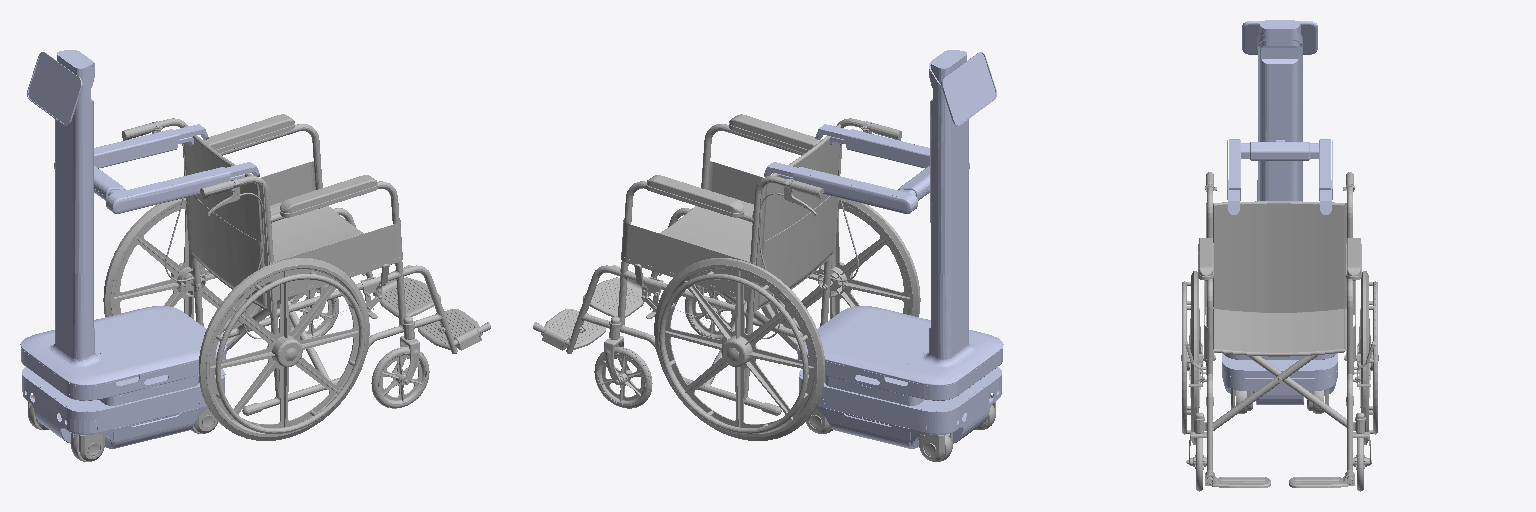
robot.urdf — G7_arm_wheelchair:
<?xml version="1.0" encoding="utf-8"?>
<!-- This URDF was automatically created by SolidWorks to URDF Exporter! Originally created by Stephen Brawner (brawner@gmail.com) 
     Commit Version: 1.6.0-4-g7f85cfe  Build Version: 1.6.7995.38578
     For more information, please see http://wiki.ros.org/sw_urdf_exporter -->
<robot
  name="G7_arm_wheelchair">
  <mujoco>
  <compiler
    meshdir="../meshes"
    balanceinertia="true"
    discardvisual="false" />
  </mujoco>
  <link
    name="AMR_base_link">
    <inertial>
      <origin
        xyz="0.01809495 0.00346995 -0.00482292"
        rpy="0 0 0" />
      <mass
        value="40.00000000" />
      <inertia
        ixx="0.62303071"
        ixy="0.00015279"
        ixz="0.01722407"
        iyy="0.92096563"
        iyz="-0.01209508"
        izz="1.23411295" />
    </inertial>
    <visual>
      <origin
        xyz="0 0 0"
        rpy="0 0 0" />
      <geometry>
        <mesh
          filename="package://G7_arm_wheelchair/meshes/AMR_base_link.STL" />
      </geometry>
      <material
        name="">
        <color
          rgba="0.792156862745098 0.819607843137255 0.933333333333333 1" />
      </material>
    </visual>
    <collision>
      <origin
        xyz="0 0 0"
        rpy="0 0 0" />
      <geometry>
        <mesh
          filename="package://G7_arm_wheelchair/meshes/AMR_collision.stl" />
      </geometry>
    </collision>
  </link>
  <link
    name="arm_link">
    <inertial>
      <origin
        xyz="0.03614545 -0.00000317 0.05135422"
        rpy="0 0 0" />
      <mass
        value="10.00000000" />
      <inertia
        ixx="0.87452839"
        ixy="-0.00000629"
        ixz="0.05468077"
        iyy="0.95354388"
        iyz="-0.00000413"
        izz="0.20297959" />
    </inertial>


    <visual>
      <origin
        xyz="0 0 0"
        rpy="0 0 0" />
      <geometry>
        <mesh
          filename="package://G7_arm_wheelchair/meshes/arm_link.STL" />
      </geometry>
      <material
        name="">
        <color
          rgba="0.792156862745098 0.819607843137255 0.933333333333333 1" />
      </material>
    </visual>
    <collision>
      <origin
        xyz="0.16 0 -0.545"
        rpy="0 0 0" />
      <geometry>
        <mesh
          filename="package://G7_arm_wheelchair/meshes/arm_collision.stl" />
      </geometry>
    </collision>
  </link>
  <joint
    name="AMR_arm_J"
    type="fixed">
    <origin
      xyz="-0.16139 0 0.54534"
      rpy="0 0 0" />
    <parent
      link="AMR_base_link" />
    <child
      link="arm_link" />
    <axis
      xyz="0 0 0" />
  </joint>
  <link
    name="wheelchair_base_link">
    <inertial>
      <origin
        xyz="-0.06158659 -0.00662311 0.07561156"
        rpy="0 0 0" />
      <mass
        value="60.00000000" />
      <inertia
        ixx="3.82247384"
        ixy="0.03718492"
        ixz="-0.99542033"
        iyy="4.10517780"
        iyz="-0.12150664"
        izz="3.68493511" />
    </inertial>


    <visual>
      <origin
        xyz="0 0 0"
        rpy="0 0 0" />
      <geometry>
        <mesh
          filename="package://G7_arm_wheelchair/meshes/wheelchair_base_link.STL" />
      </geometry>
      <material
        name="">
        <color
          rgba="0.752941176470588 0.752941176470588 0.752941176470588 1" />
      </material>
    </visual>
    <collision>
      <origin
        xyz="-0.57 -0.04 -0.3136"
        rpy="0 0 0.07" />
      <geometry>
        <mesh
          filename="package://G7_arm_wheelchair/meshes/wheelchair_base_link_collision.STL" />
      </geometry>
    </collision>
  </link>
  <joint
    name="arm_wheelchair_J"
    type="fixed">
    <origin
      xyz="0.72627 0 -0.23586"
      rpy="0 0 -0.069813" />
    <parent
      link="arm_link" />
    <child
      link="wheelchair_base_link" />
    <axis
      xyz="0 0 0" />
  </joint>
  <link
    name="wheelchair_FL_link">
    <inertial>
      <origin
        xyz="-0.00669370 -0.00030195 -0.03528150"
        rpy="0 0 0" />
      <mass
        value="0.30000000" />
      <inertia
        ixx="0.00140980"
        ixy="0.00000287"
        ixz="0.00021633"
        iyy="0.00129176"
        iyz="0.00001101"
        izz="0.00026023" />
    </inertial>


    <visual>
      <origin
        xyz="0 0 0"
        rpy="0 0 0" />
      <geometry>
        <mesh
          filename="package://G7_arm_wheelchair/meshes/wheelchair_FL_link.STL" />
      </geometry>
      <material
        name="">
        <color
          rgba="0.752941176470588 0.752941176470588 0.752941176470588 1" />
      </material>
    </visual>
    
  </link>
  <joint
    name="wheelchair_FL_J"
    type="revolute">
    <origin
      xyz="0.25067 0.28905 -0.25051"
      rpy="0 0 0.069813" />
    <parent
      link="wheelchair_base_link" />
    <child
      link="wheelchair_FL_link" />
    <axis
      xyz="0.069756 0 -0.99756" />
  </joint>
  <link
    name="wheelchair_FLW_link">
    <inertial>
      <origin
        xyz="0 0 0"
        rpy="0 0 0" />
      <mass
        value="0.50000000" />
      <inertia
        ixx="0.00151566"
        ixy="0.00000000"
        ixz="-0.00000003"
        iyy="0.00297133"
        iyz="0.00000000"
        izz="0.00151563" />
    </inertial>

    <visual>
      <origin
        xyz="0 0 0"
        rpy="0 0 0" />
      <geometry>
        <mesh
          filename="package://G7_arm_wheelchair/meshes/wheelchair_FLW_link.STL" />
      </geometry>
      <material
        name="">
        <color
          rgba="0.752941176470588 0.752941176470588 0.752941176470588 1" />
      </material>
    </visual>
    <collision>
      <origin xyz="0 0 0" rpy="-1.5708 0 0"/>
      <geometry>
        <cylinder radius="0.099" length="0.025"/>
      </geometry>
    </collision> 
  </link>
  <joint
    name="wheelchair_FLW_J"
    type="revolute">
    <origin
      xyz="-0.031613 0 -0.12134"
      rpy="0 0 0" />
    <parent
      link="wheelchair_FL_link" />
    <child
      link="wheelchair_FLW_link" />
    <axis
      xyz="0 1 0" />
  </joint>
  <link
    name="wheelchair_FR_link">
    <inertial>
      <origin
        xyz="-0.00669369 -0.00030196 -0.03528157"
        rpy="0 0 0" />
      <mass
        value="0.30000000" />
      <inertia
        ixx="0.00140981"
        ixy="0.00000287"
        ixz="0.00021633"
        iyy="0.00129176"
        iyz="0.00001101"
        izz="0.00026023" />
    </inertial>
``


    <visual>
      <origin
        xyz="0 0 0"
        rpy="0 0 0" />
      <geometry>
        <mesh
          filename="package://G7_arm_wheelchair/meshes/wheelchair_FR_link.STL" />
      </geometry>
      <material
        name="">
        <color
          rgba="0.752941176470588 0.752941176470588 0.752941176470588 1" />
      </material>
    </visual>
    
  </link>
  <joint
    name="wheelchair_FR_J"
    type="revolute">
    <origin
      xyz="0.288458061311074 -0.251351794360144 -0.250510711215681"
      rpy="0 0 0.0698131700797799" />
    <parent
      link="wheelchair_base_link" />
    <child
      link="wheelchair_FR_link" />
    <axis
      xyz="0.0697564737441193 0 -0.997564050259792" />
  </joint>
  <link
    name="wheelchair_FRW_link">
    <inertial>
      <origin
        xyz="0 0 0"
        rpy="0 0 0" />
      <mass
        value="0.50000000" />
      <inertia
        ixx="0.00151566"
        ixy="0.00000000"
        ixz="-0.00000003"
        iyy="0.00297133"
        iyz="0.00000000"
        izz="0.00151563" />
    </inertial>


    <visual>
      <origin
        xyz="0 0 0"
        rpy="0 0 0" />
      <geometry>
        <mesh
          filename="package://G7_arm_wheelchair/meshes/wheelchair_FRW_link.STL" />
      </geometry>
      <material
        name="">
        <color
          rgba="0.752941176470588 0.752941176470588 0.752941176470588 1" />
      </material>
    </visual>
    <collision>
      <origin xyz="0 0 0" rpy="-1.5708 0 0"/>
      <geometry>
        <cylinder radius="0.099" length="0.025"/>
      </geometry>
    </collision> 
  </link>
  <joint
    name="wheelchair_FRW_J"
    type="revolute">
    <origin
      xyz="-0.0316127012317233 0 -0.121340692388977"
      rpy="0 0 0" />
    <parent
      link="wheelchair_FR_link" />
    <child
      link="wheelchair_FRW_link" />
    <axis
      xyz="0 0.999999999999955 0" />
  </joint>
  <link
    name="wheelchair_RLW_link">
    <inertial>
      <origin
        xyz="0.00001633 -0.00015277 0.00000889"
        rpy="0 0 0" />
      <mass
        value="1.00000000" />
      <inertia
        ixx="0.02845442"
        ixy="0.00000013"
        ixz="0.00000047"
        iyy="0.05638375"
        iyz="0.00000006"
        izz="0.02845217" />
    </inertial>


    <visual>
      <origin
        xyz="0 0 0"
        rpy="0 0 0" />
      <geometry>
        <mesh
          filename="package://G7_arm_wheelchair/meshes/wheelchair_RLW_link.STL" />
      </geometry>
      <material
        name="">
        <color
          rgba="0.752941176470588 0.752941176470588 0.752941176470588 1" />
      </material>
    </visual>
    <collision>
      <origin xyz="0 0 0" rpy="-1.5708 0 0"/>
      <geometry>
        <cylinder radius="0.294" length="0.059"/>
      </geometry>
    </collision> 
  </link>
  <joint
    name="wheelchair_RLW_J"
    type="revolute">
    <origin
      xyz="-0.193198001154472 0.279615553806092 -0.17647944707263"
      rpy="0 0 0.0698131700797799" />
    <parent
      link="wheelchair_base_link" />
    <child
      link="wheelchair_RLW_link" />
    <axis
      xyz="0 -1 0" />
  </joint>
  <link
    name="wheelchair_RRW_link">
    <inertial>
      <origin
        xyz="0.00001633 0.00015277 -0.00000889"
        rpy="0 0 0" />
      <mass
        value="1.00000000" />
      <inertia
        ixx="0.02845442"
        ixy="-0.00000013"
        ixz="-0.00000047"
        iyy="0.05638375"
        iyz="0.00000007"
        izz="0.02845217" />
    </inertial>


    <visual>
      <origin
        xyz="0 0 0"
        rpy="0 0 0" />
      <geometry>
        <mesh
          filename="package://G7_arm_wheelchair/meshes/wheelchair_RRW_link.STL" />
      </geometry>
      <material
        name="">
        <color
          rgba="0.752941176470588 0.752941176470588 0.752941176470588 1" />
      </material>
    </visual>
     <collision>
      <origin xyz="0 0 0" rpy="-1.5708 0 0"/>
      <geometry>
        <cylinder radius="0.294" length="0.059"/>
      </geometry>
    </collision>
  </link>
  <joint
    name="wheelchair_RRW_J"
    type="revolute">
    <origin
      xyz="-0.152402952832757 -0.303782326723057 -0.176479378999602"
      rpy="0 0 0.0698131700797799" />
    <parent
      link="wheelchair_base_link" />
    <child
      link="wheelchair_RRW_link" />
    <axis
      xyz="0 0.999999999999954 0" />
  </joint>
  <link
    name="AMR_FL_link">
    <inertial>
      <origin
        xyz="0.00000000 -0.00166139 -0.04674468"
        rpy="0 0 0" />
      <mass
        value="0.30000000" />
      <inertia
        ixx="0.00117646"
        ixy="0.00000000"
        ixz="0.00000000"
        iyy="0.00105740"
        iyz="0.00003180"
        izz="0.00051559" />
    </inertial>


    <visual>
      <origin
        xyz="0 0 0"
        rpy="0 0 0" />
      <geometry>
        <mesh
          filename="package://G7_arm_wheelchair/meshes/AMR_FL_link.STL" />
      </geometry>
      <material
        name="">
        <color
          rgba="0.752941176470588 0.752941176470588 0.752941176470588 1" />
      </material>
    </visual>

  </link>
  <joint
    name="AMR_FL_J"
    type="revolute">
    <origin
      xyz="0.198 0.129999999999956 -0.056600604850529"
      rpy="0 0 0" />
    <parent
      link="AMR_base_link" />
    <child
      link="AMR_FL_link" />
    <axis
      xyz="0 0 -1" />
  </joint>
  <link
    name="AMR_FLW_link">
    <inertial>
      <origin
        xyz="0 0 0"
        rpy="0 0 0" />
      <mass
        value="1.00000000" />
      <inertia
        ixx="0.00118731"
        ixy="0.00000000"
        ixz="0.00000002"
        iyy="0.00219403"
        iyz="0.00000000"
        izz="0.00118753" />
    </inertial>


    <visual>
      <origin
        xyz="0 0 0"
        rpy="0 0 0" />
      <geometry>
        <mesh
          filename="package://G7_arm_wheelchair/meshes/AMR_FLW_link.STL" />
      </geometry>
      <material
        name="">
        <color
          rgba="0.752941176470588 0.752941176470588 0.752941176470588 1" />
      </material>
    </visual>
    <collision>
      <origin xyz="0 0 0" rpy="-1.5708 0 0"/>
      <geometry>
        <cylinder radius="0.05203" length="0.036"/>
      </geometry>
    </collision>
  </link>
  <joint
    name="AMR_FLW_J"
    type="revolute">
    <origin
      xyz="0 0 -0.0525"
      rpy="0 0 0" />
    <parent
      link="AMR_FL_link" />
    <child
      link="AMR_FLW_link" />
    <axis
      xyz="0 1 0" />
  </joint>
  <link
    name="AMR_FR_link">
    <inertial>
      <origin
        xyz="0 0 0"
        rpy="0 0 0" />
      <mass
        value="0.30000000" />
      <inertia
        ixx="0.00117647"
        ixy="0.00000000"
        ixz="0.00000000"
        iyy="0.00105741"
        iyz="-0.00003179"
        izz="0.00051559" />
    </inertial>


    <visual>
      <origin
        xyz="0 0 0"
        rpy="0 0 0" />
      <geometry>
        <mesh
          filename="package://G7_arm_wheelchair/meshes/AMR_FR_link.STL" />
      </geometry>
      <material
        name="">
        <color
          rgba="0.752941176470588 0.752941176470588 0.752941176470588 1" />
      </material>
    </visual>

  </link>
  <joint
    name="AMR_FR_J"
    type="revolute">
    <origin
      xyz="0.197999999999997 -0.130000000000005 -0.056600604850529"
      rpy="0 0 0" />
    <parent
      link="AMR_base_link" />
    <child
      link="AMR_FR_link" />
    <axis
      xyz="0 0 -1" />
  </joint>
  <link
    name="AMR_FRW_link">
    <inertial>
      <origin
        xyz="0 0 0"
        rpy="0 0 0" />
      <mass
        value="1.00000000" />
      <inertia
        ixx="0.00118731"
        ixy="0.00000000"
        ixz="-0.00000002"
        iyy="0.00219403"
        iyz="0.00000000"
        izz="0.00118753" />
    </inertial>


    <visual>
      <origin
        xyz="0 0 0"
        rpy="0 0 0" />
      <geometry>
        <mesh
          filename="package://G7_arm_wheelchair/meshes/AMR_FRW_link.STL" />
      </geometry>
      <material
        name="">
        <color
          rgba="0.752941176470588 0.752941176470588 0.752941176470588 1" />
      </material>
    </visual>
    <collision>
      <origin xyz="0 0 0" rpy="-1.5708 0 0"/>
      <geometry>
        <cylinder radius="0.05203" length="0.036"/>
      </geometry>
    </collision>
  </link>
  <joint
    name="AMR_FRW_J"
    type="revolute">
    <origin
      xyz="0 0 -0.0525"
      rpy="0 0 0" />
    <parent
      link="AMR_FR_link" />
    <child
      link="AMR_FRW_link" />
    <axis
      xyz="0 1 0" />
  </joint>
  <link
    name="AMR_RL_link">
    <inertial>
      <origin
        xyz="0 0 0"
        rpy="0 0 0" />
      <mass
        value="0.30000000" />
      <inertia
        ixx="0.00117647"
        ixy="0.00000000"
        ixz="0.00000000"
        iyy="0.00105741"
        iyz="0.00003180"
        izz="0.00051559" />
    </inertial>


    <visual>
      <origin
        xyz="0 0 0"
        rpy="0 0 0" />
      <geometry>
        <mesh
          filename="package://G7_arm_wheelchair/meshes/AMR_RL_link.STL" />
      </geometry>
      <material
        name="">
        <color
          rgba="0.752941176470588 0.752941176470588 0.752941176470588 1" />
      </material>
    </visual>
 
  </link>
  <joint
    name="AMR_RL_J"
    type="revolute">
    <origin
      xyz="-0.198 0.13 -0.056601"
      rpy="0 0 0" />
    <parent
      link="AMR_base_link" />
    <child
      link="AMR_RL_link" />
    <axis
      xyz="0 0 -1" />
  </joint>
  <link
    name="AMR_RLW_link">
    <inertial>
      <origin
        xyz="0 0 0"
        rpy="0 0 0" />
      <mass
        value="1.00000000" />
      <inertia
        ixx="0.00118731"
        ixy="0.00000000"
        ixz="0.00000002"
        iyy="0.00219403"
        iyz="0.00000000"
        izz="0.00118753" />
    </inertial>


    <visual>
      <origin
        xyz="0 0 0"
        rpy="0 0 0" />
      <geometry>
        <mesh
          filename="package://G7_arm_wheelchair/meshes/AMR_RLW_link.STL" />
      </geometry>
      <material
        name="">
        <color
          rgba="0.752941176470588 0.752941176470588 0.752941176470588 1" />
      </material>
    </visual>
    <collision>
      <origin xyz="0 0 0" rpy="-1.5708 0 0"/>
      <geometry>
        <cylinder radius="0.05203" length="0.036"/>
      </geometry>
    </collision>
  </link>
  <joint
    name="AMR_RLW_J"
    type="revolute">
    <origin
      xyz="0 0 -0.0525"
      rpy="0 0 0" />
    <parent
      link="AMR_RL_link" />
    <child
      link="AMR_RLW_link" />
    <axis
      xyz="0 1 0" />
  </joint>
  <link
    name="AMR_RR_link">
    <inertial>
      <origin
        xyz="0 0 0"
        rpy="0 0 0" />
      <mass
        value="0.30000000" />
      <inertia
        ixx="0.00117647"
        ixy="0.00000000"
        ixz="0.00000000"
        iyy="0.00105740"
        iyz="-0.00003179"
        izz="0.00051559" />
    </inertial>


    <visual>
      <origin
        xyz="0 0 0"
        rpy="0 0 0" />
      <geometry>
        <mesh
          filename="package://G7_arm_wheelchair/meshes/AMR_RR_link.STL" />
      </geometry>
      <material
        name="">
        <color
          rgba="0.752941176470588 0.752941176470588 0.752941176470588 1" />
      </material>
    </visual>
  </link>
  <joint
    name="AMR_RR_J"
    type="revolute">
    <origin
      xyz="-0.198 -0.13 -0.056601"
      rpy="0 0 0" />
    <parent
      link="AMR_base_link" />
    <child
      link="AMR_RR_link" />
    <axis
      xyz="0 0 -1" />
  </joint>
  <link
    name="AMR_RRW_link">
    <inertial>
      <origin
        xyz="0.00001633 0.00015277 -0.00000889"
        rpy="0 0 0" />
      <mass
        value="1.00000000" />
      <inertia
        ixx="0.02845442"
        ixy="-0.00000013"
        ixz="-0.00000047"
        iyy="0.05638375"
        iyz="0.00000007"
        izz="0.02845217" />
    </inertial>


    <visual>
      <origin
        xyz="0 0 0"
        rpy="0 0 0" />
      <geometry>
        <mesh
          filename="package://G7_arm_wheelchair/meshes/AMR_RRW_link.STL" />
      </geometry>
      <material
        name="">
        <color
          rgba="0.752941176470588 0.752941176470588 0.752941176470588 1" />
      </material>
    </visual>
    <collision>
      <origin xyz="0 0 0" rpy="-1.5708 0 0"/>
      <geometry>
        <cylinder radius="0.05203" length="0.036"/>
      </geometry>
    </collision>
  </link>
  <joint
    name="AMR_RRW_J"
    type="revolute">
    <origin
      xyz="0 0 -0.0525"
      rpy="0 0 0" />
    <parent
      link="AMR_RR_link" />
    <child
      link="AMR_RRW_link" />
    <axis
      xyz="0 1 0" />
  </joint>
</robot>

--- Render facts (derived) ---
Views: 3 orthographic renders of the robot side by side, from view 1: azimuth 30°, elevation 25°; view 2: azimuth 150°, elevation 25°; view 3: azimuth 270°, elevation 25°.
Robot: G7_arm_wheelchair — 17 links, 16 joints (14 revolute, 2 fixed); root link AMR_base_link; default pose: every joint at zero.
Visible links, largest first — view 1: wheelchair_base_link, arm_link, AMR_base_link, wheelchair_RRW_link, wheelchair_RLW_link, wheelchair_FRW_link, wheelchair_FLW_link, AMR_RR_link; view 2: wheelchair_base_link, arm_link, AMR_base_link, wheelchair_RLW_link, wheelchair_RRW_link, wheelchair_FLW_link, wheelchair_FRW_link, AMR_RL_link; view 3: wheelchair_base_link, arm_link, AMR_base_link, wheelchair_RRW_link, wheelchair_RLW_link.
Boxes of the visible links, x1,y1,x2,y2 form: wheelchair_base_link: (122,114,490,415); arm_link: (20,50,259,385); AMR_base_link: (21,306,226,448); wheelchair_RRW_link: (199,258,369,440); wheelchair_RLW_link: (103,198,262,350); wheelchair_FRW_link: (371,347,429,408); wheelchair_FLW_link: (289,287,338,337); AMR_RR_link: (71,433,104,460); wheelchair_base_link: (533,114,901,415); arm_link: (764,50,1003,385); AMR_base_link: (797,306,1002,448); wheelchair_RLW_link: (654,258,824,440); wheelchair_RRW_link: (761,198,920,350); wheelchair_FLW_link: (594,347,652,408); wheelchair_FRW_link: (685,287,734,339); AMR_RL_link: (919,433,952,460); wheelchair_base_link: (1185,172,1374,487); arm_link: (1227,20,1332,214); AMR_base_link: (1222,353,1337,404); wheelchair_RRW_link: (1181,271,1215,444); wheelchair_RLW_link: (1344,271,1378,444).
Size in the robot's own frame: 1.41 by 0.6659 by 1.27 metres.
17 mesh visuals loaded from 17 distinct referenced files (17 binary STL).
